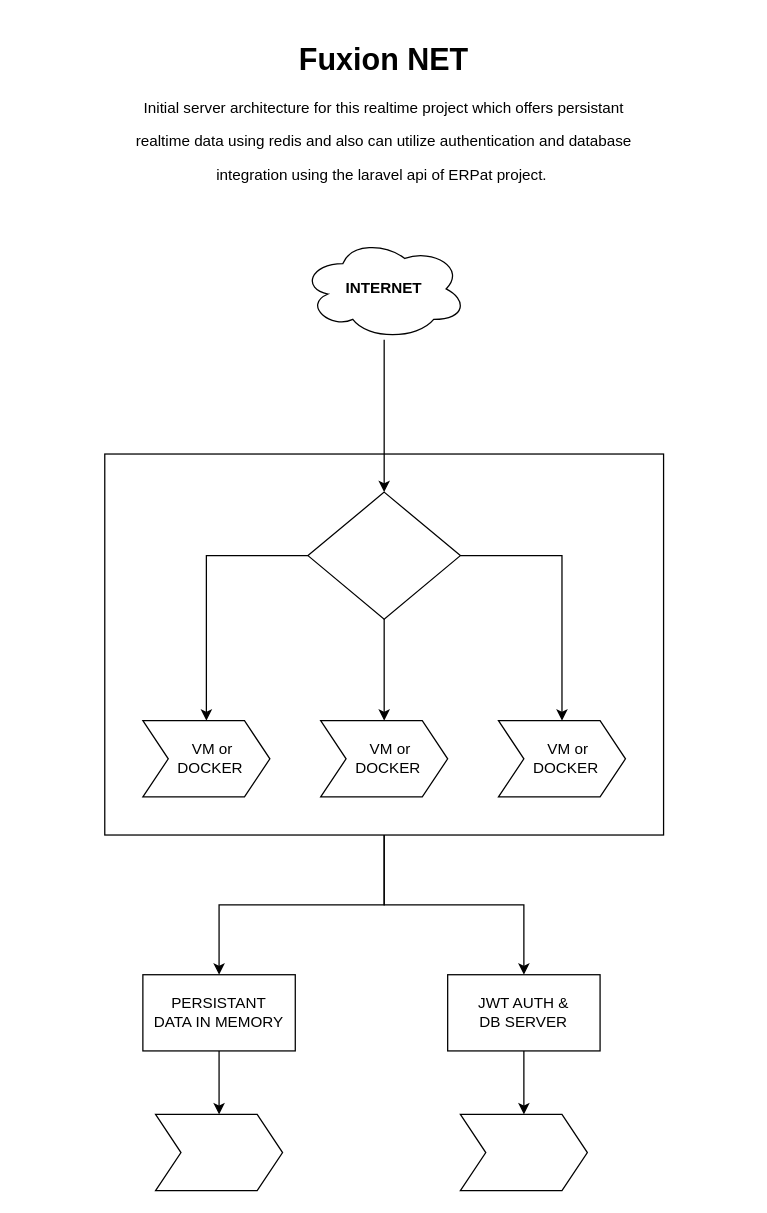
The diagram is 767 pixels wide and 1213 high, and some of its shapes have lost their labels. The centre of each missing label's shape, as x and y in pixels:
"ERPAT API" goes at point 523,1152.
"PROXI" goes at point 383,555.
"REDIS CLUSTER" goes at point 218,1152.
